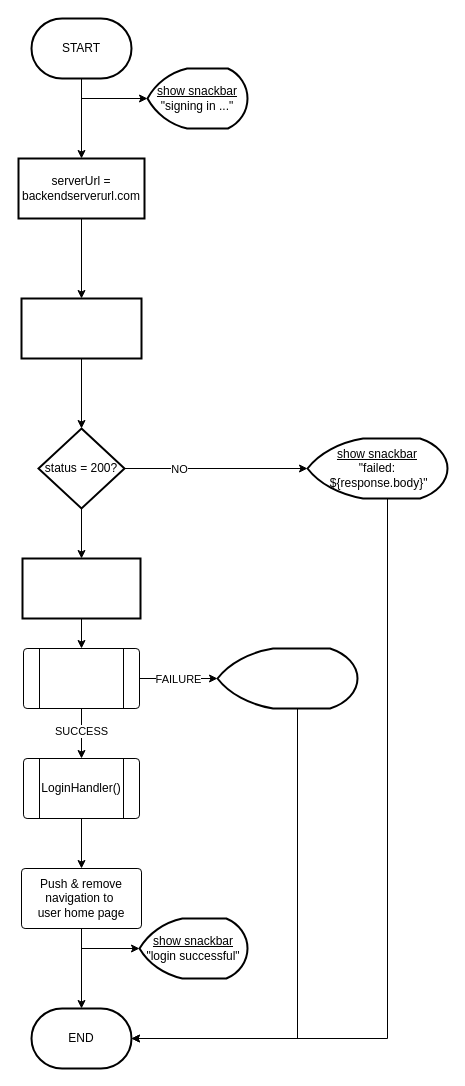
Some shapes in this 465 by 1086 pixel diagram are drawn without their labels. Here are the shapes that lost their labels. From the top down, the centre of each, then its label:
point (81, 328): response = http.post (serverUrl, 'token' : idToken)
point (81, 588): customToken = responseData['token']
point (81, 678): FirebaseAuth signIn with custom token
point (287, 678): show snackbar "login failed"
